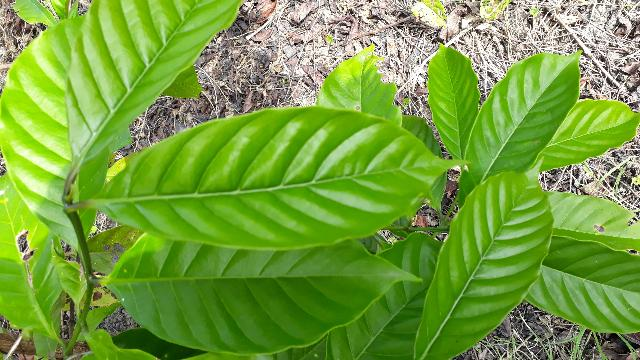healthy: (86, 108, 476, 251)
